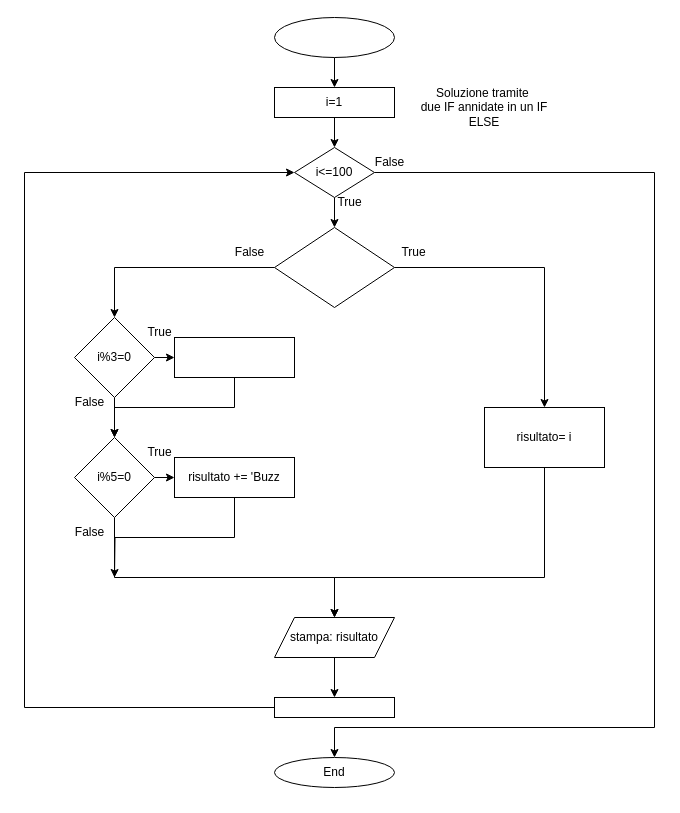
Some shapes in this 680 by 813 pixel diagram are drawn without their labels. The centre of each missing label's shape, as x and y in pixels:
I%3!=0 && i%5!=0: (334,267)
i++: (334,707)
risultato += 'Fizz': (234,357)
Start: (334,37)
